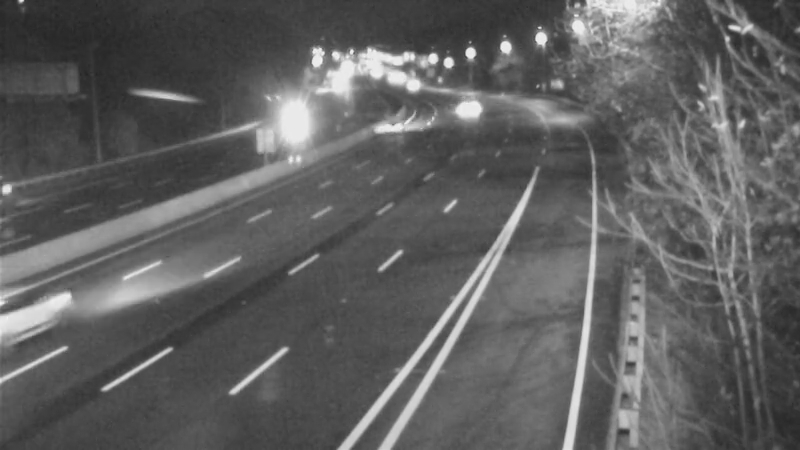vehicle: (1, 264, 95, 374), (436, 84, 486, 134), (368, 103, 418, 153), (270, 95, 320, 145)
